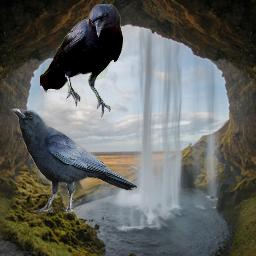Crow: (10, 108, 137, 215), (40, 4, 123, 118)
